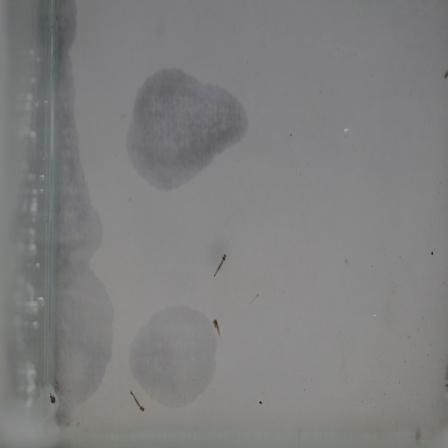Jentik-Nyamuk: (210, 250, 230, 282), (127, 386, 147, 418), (209, 313, 224, 339)
